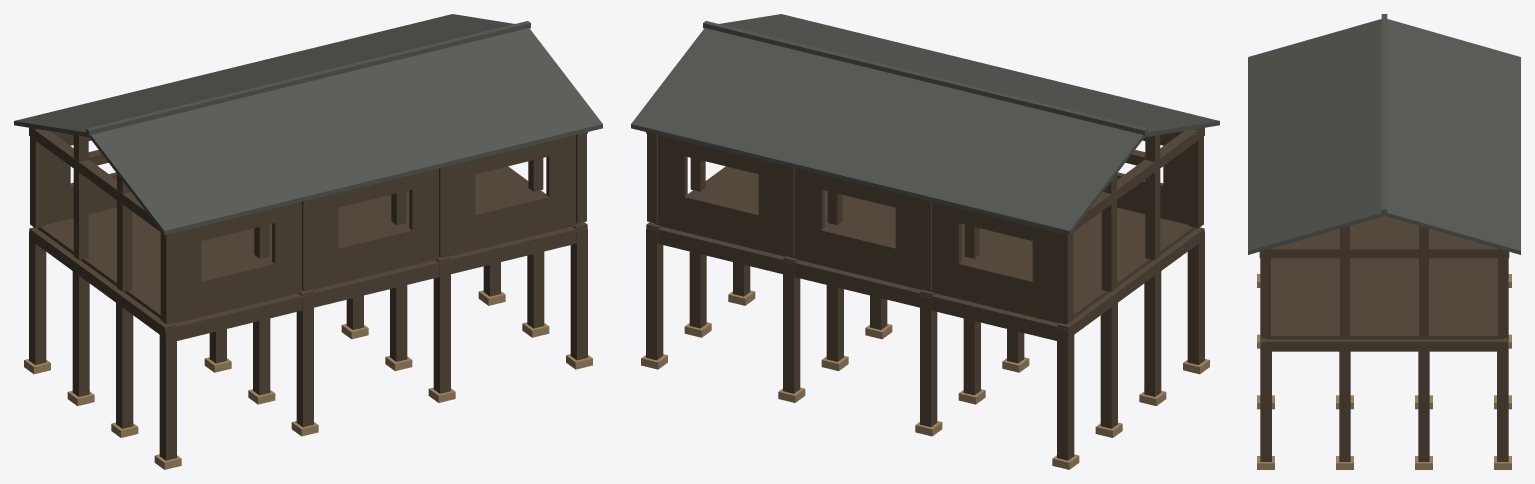
Rendered from gallery-A-LOD2.glb.
3 views of the same model, side by side, from view 1: azimuth 30°, elevation 25°; view 2: azimuth 150°, elevation 25°; view 3: azimuth 270°, elevation 25° (orthographic). The views are drawn at different scales.
Visible parts, largest first — view 1: gallery-A-static_timber, gallery-A-static_tile, gallery-A-static_earth; view 2: gallery-A-static_timber, gallery-A-static_tile, gallery-A-static_earth; view 3: gallery-A-static_tile, gallery-A-static_timber, gallery-A-static_earth.
Part boxes in pixels (box(x1,y1,x2,y2)): gallery-A-static_timber: box(29, 127, 587, 460); gallery-A-static_tile: box(14, 14, 602, 235); gallery-A-static_earth: box(24, 290, 592, 469); gallery-A-static_timber: box(646, 127, 1204, 460); gallery-A-static_tile: box(631, 14, 1219, 235); gallery-A-static_earth: box(641, 290, 1209, 469); gallery-A-static_tile: box(1248, 14, 1520, 254); gallery-A-static_timber: box(1259, 216, 1509, 461); gallery-A-static_earth: box(1257, 274, 1511, 469).
Bounding box in the file's own units: 12.9 × 8.1 × 7.6.
